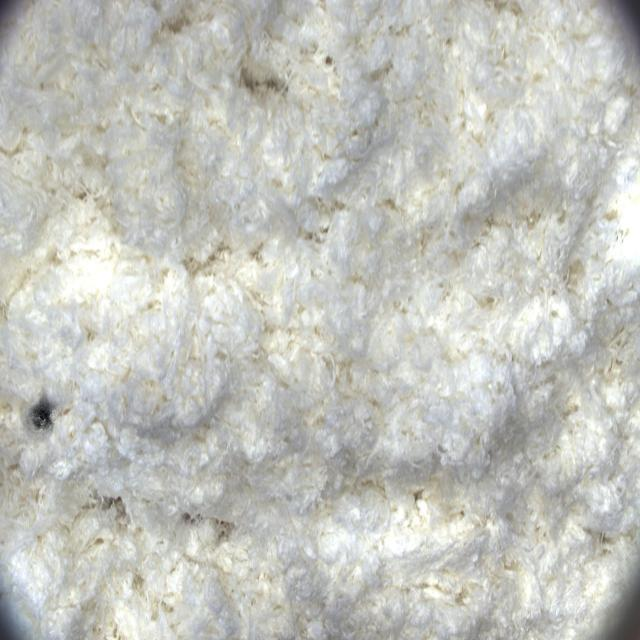dust: (20, 378, 69, 454)
